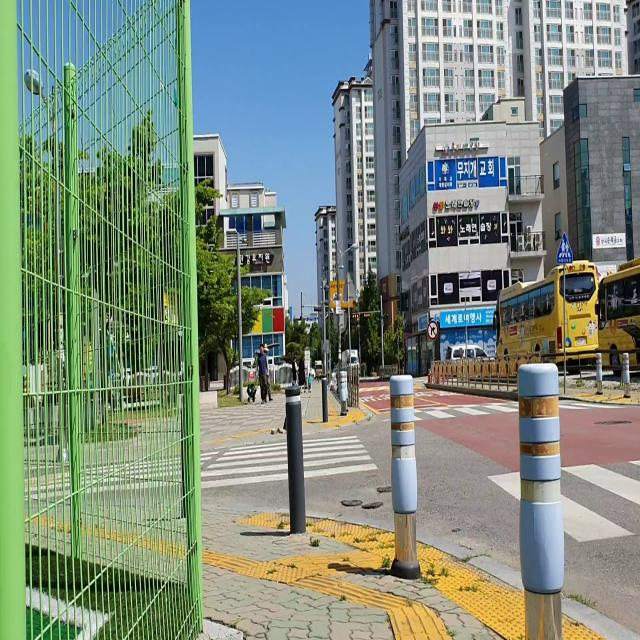횡단보도: (486, 455, 640, 544), (201, 434, 379, 492), (382, 396, 626, 423)
